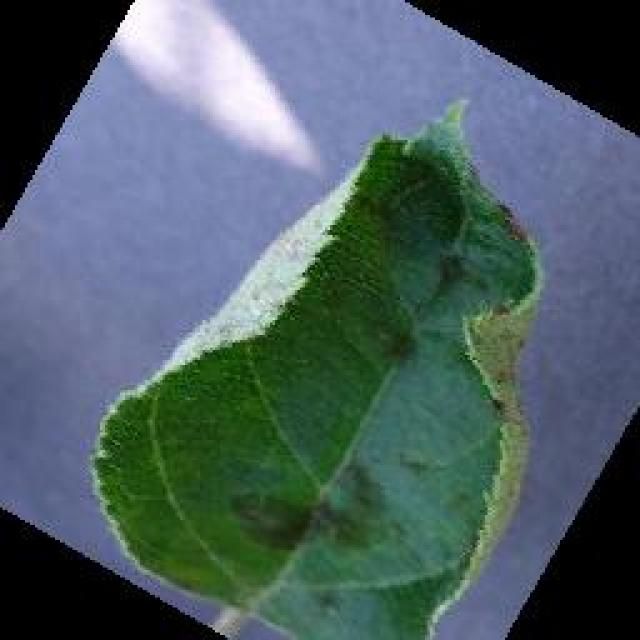apple scab disease: (87, 95, 545, 637)
